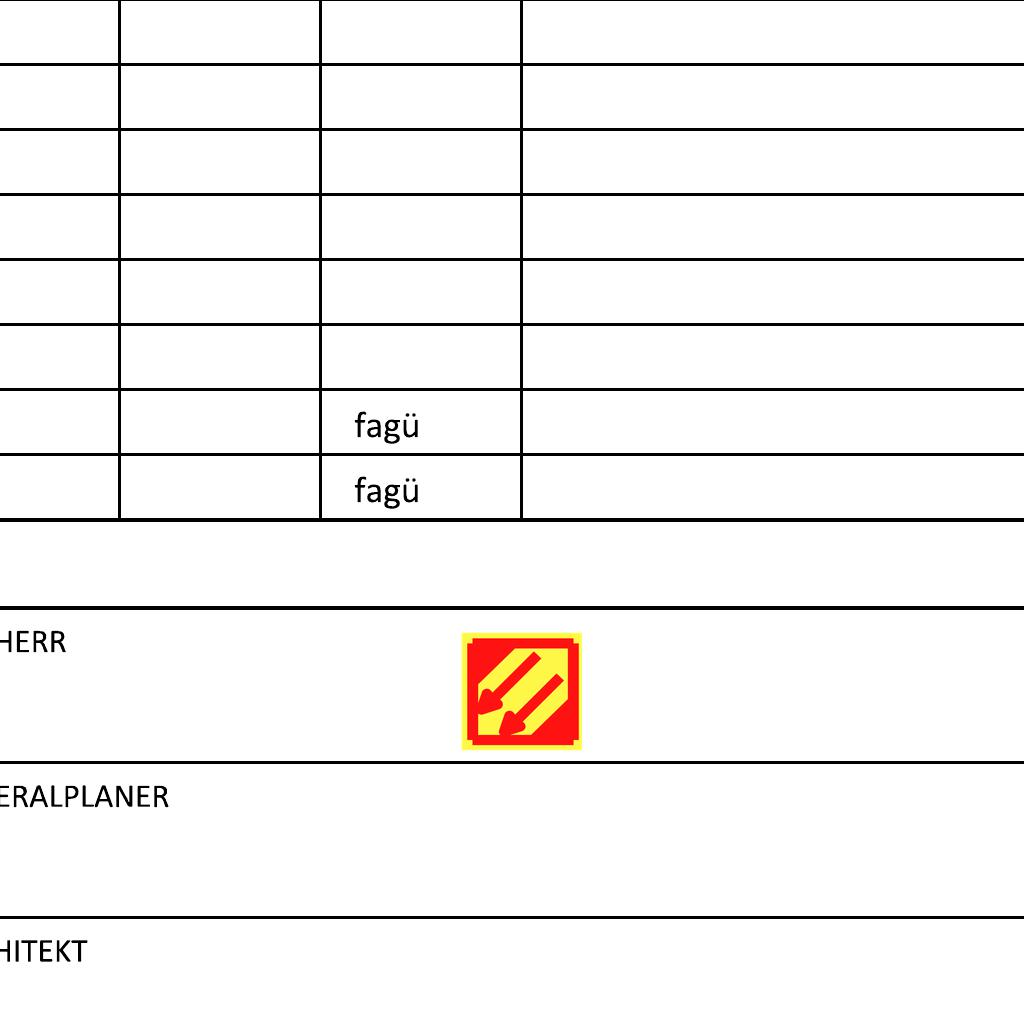ASR_Ansaugrauchmelder: (459, 629, 584, 754)
